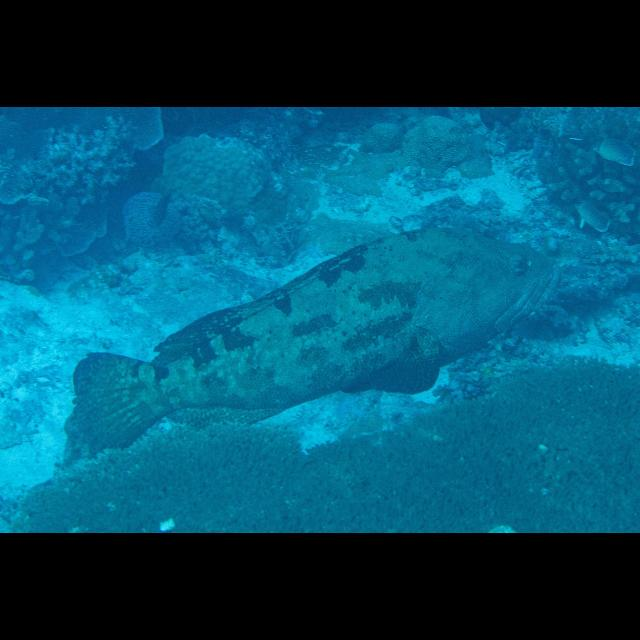Groupers: (68, 225, 566, 448)
